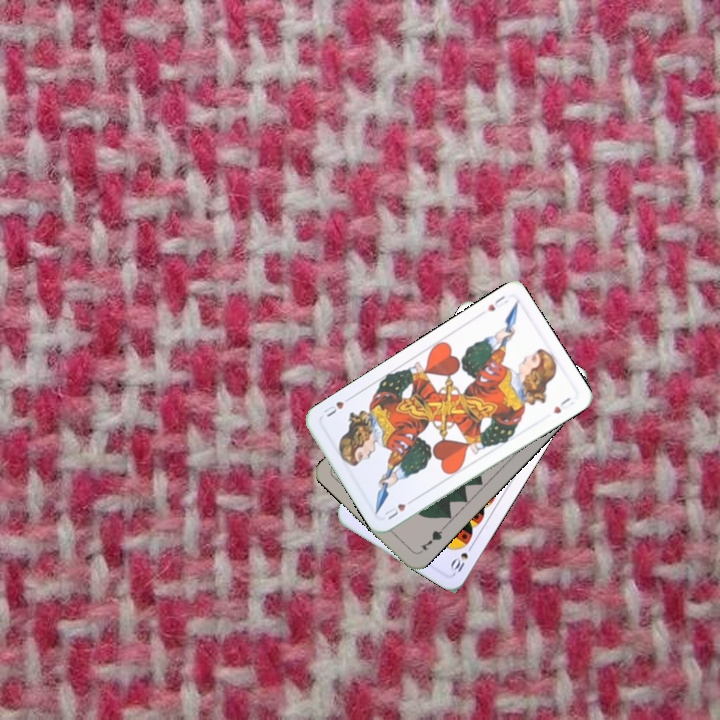G7: (415, 523, 447, 556)
HU: (380, 494, 418, 522), (483, 291, 510, 314)
S10: (446, 540, 476, 577)
